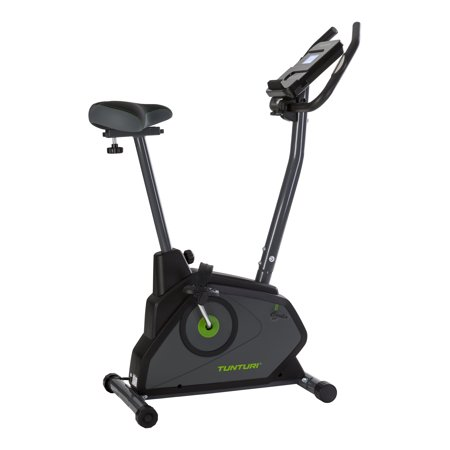gym_bike: (77, 10, 357, 437)
